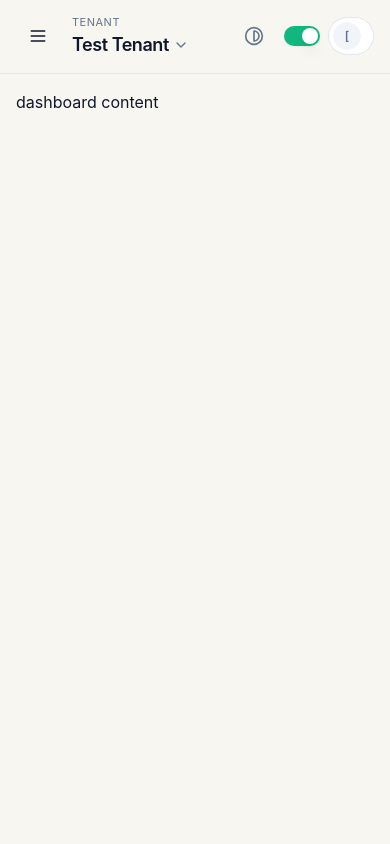
Scenario: AppShell — mobile sidebar drawer › opens a dialog when the hamburger is clicked
Click the button named "open navigation".
click(38, 36)  # box [16,14,60,58]
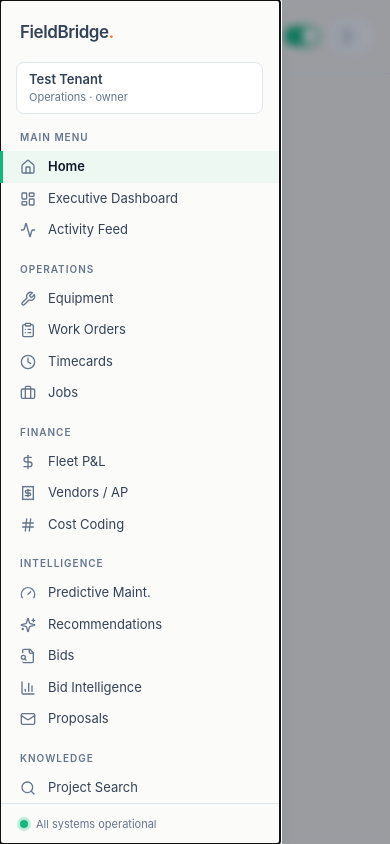
Check: the dialog is shown
